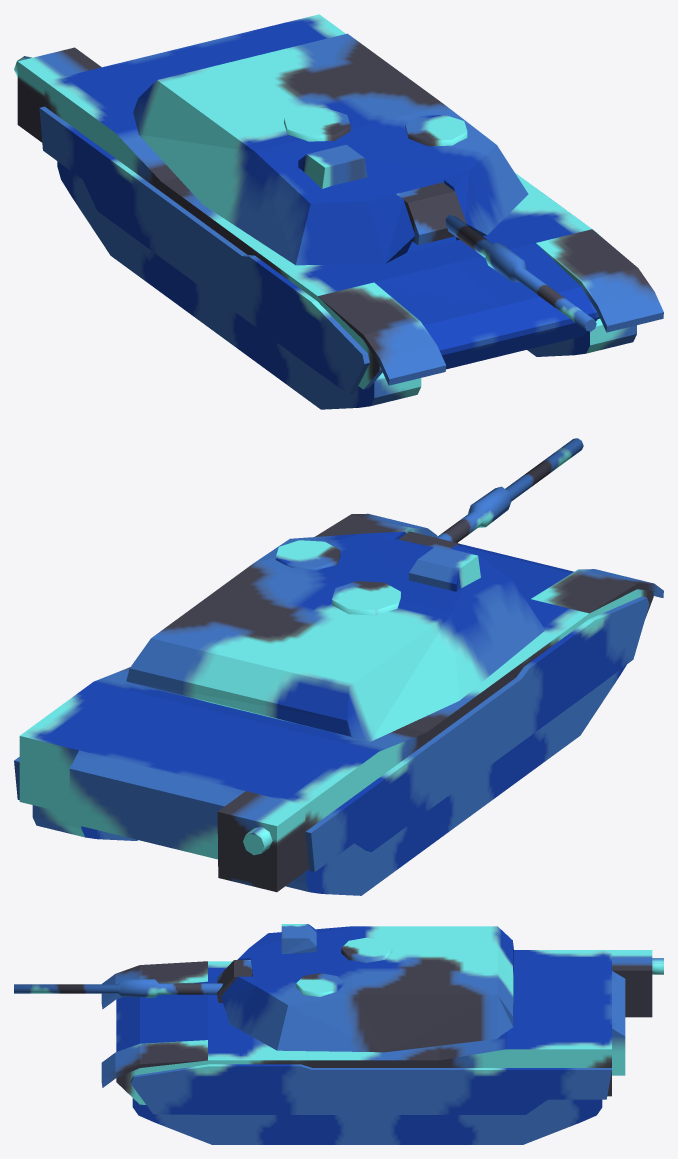
Rendered from tank.dae.
3 renders of one model, top to bottom at view 1: azimuth 30°, elevation 25°; view 2: azimuth 150°, elevation 25°; view 3: azimuth 270°, elevation 25°, orthographic. The views are drawn at different scales.
Parts seen in each view (by area): view 1: Tank; view 2: Tank; view 3: Tank.
Boxes of the visible parts, left/top/right/bottom form: Tank: left=14, top=14, right=663, bottom=409; Tank: left=14, top=438, right=663, bottom=895; Tank: left=14, top=924, right=663, bottom=1144.
Size of the model in its own units: 5.99 by 15.95 by 3.91.
1 material, 1 textured.
